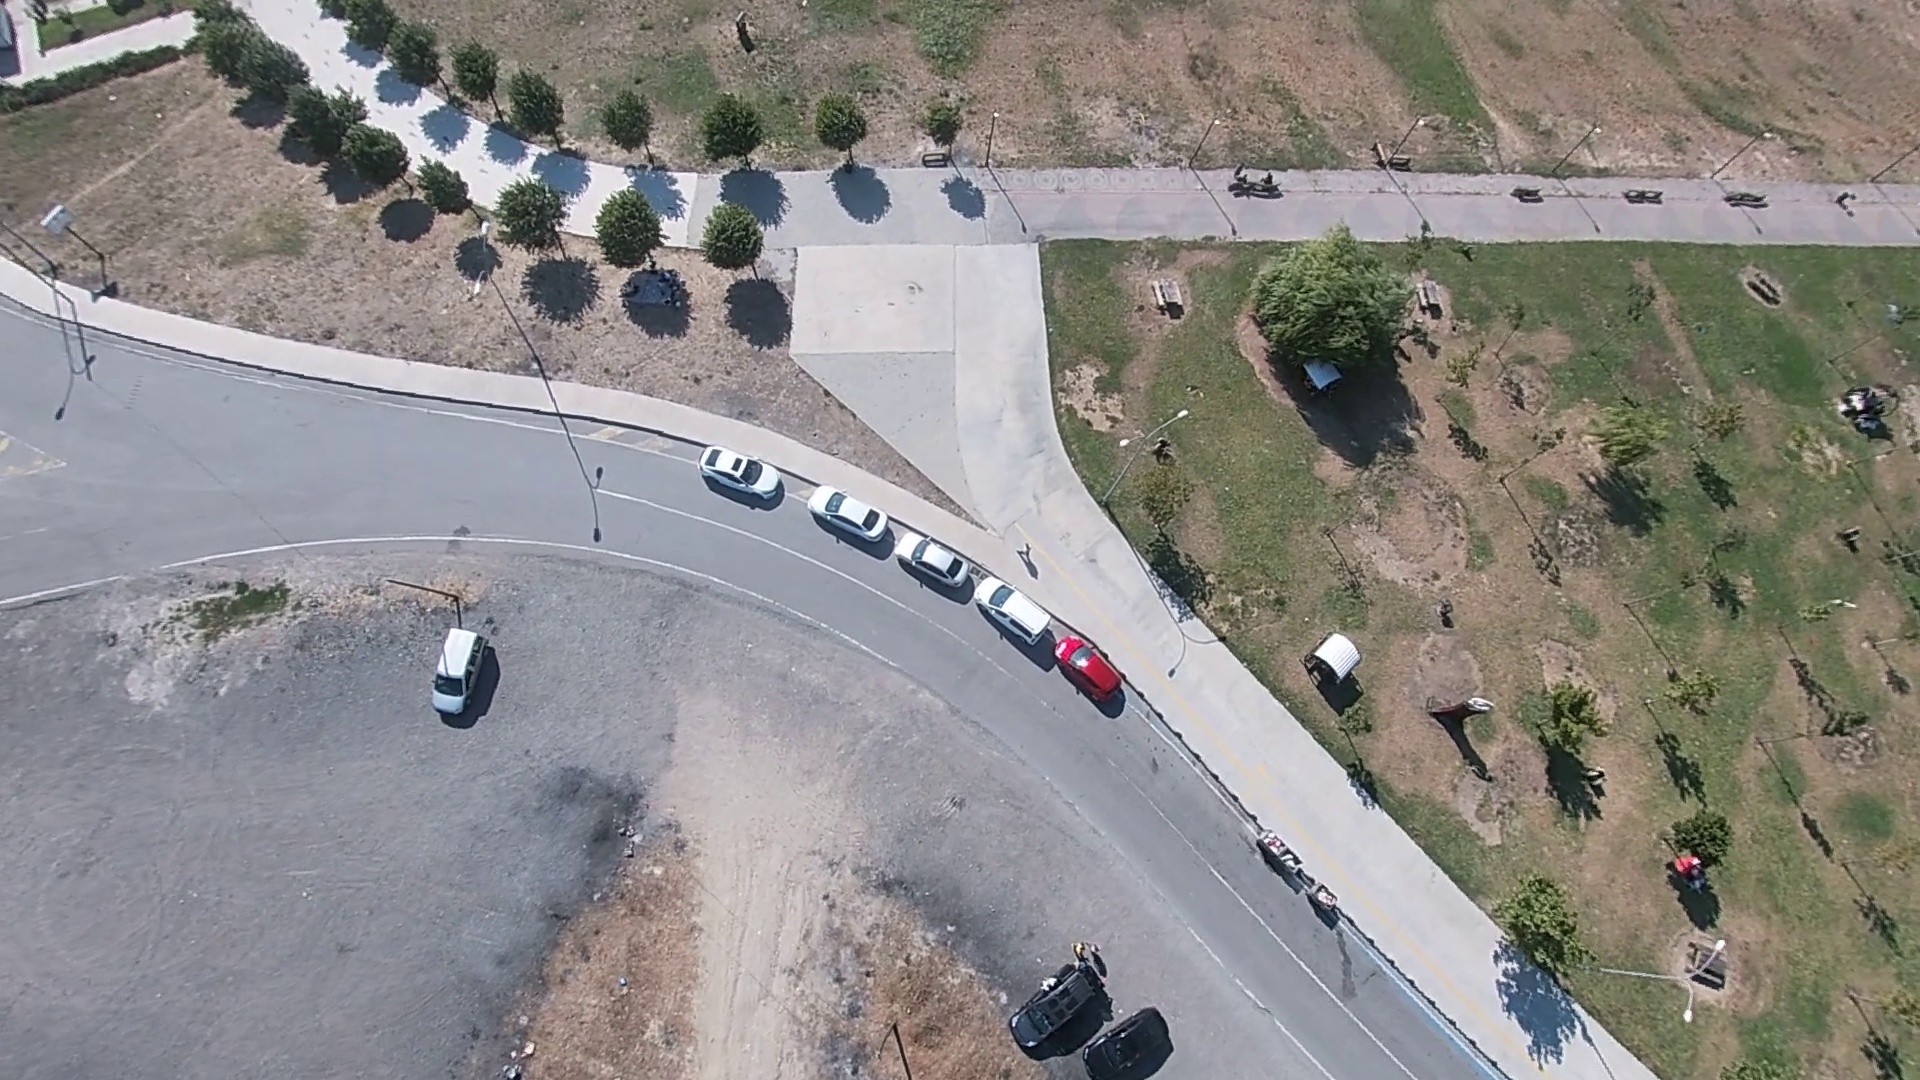arac: (1014, 940, 1120, 1056), (429, 617, 500, 724), (1083, 1004, 1180, 1080), (803, 480, 895, 550), (976, 575, 1052, 653), (694, 442, 781, 506), (897, 527, 975, 596), (1054, 640, 1124, 712)
